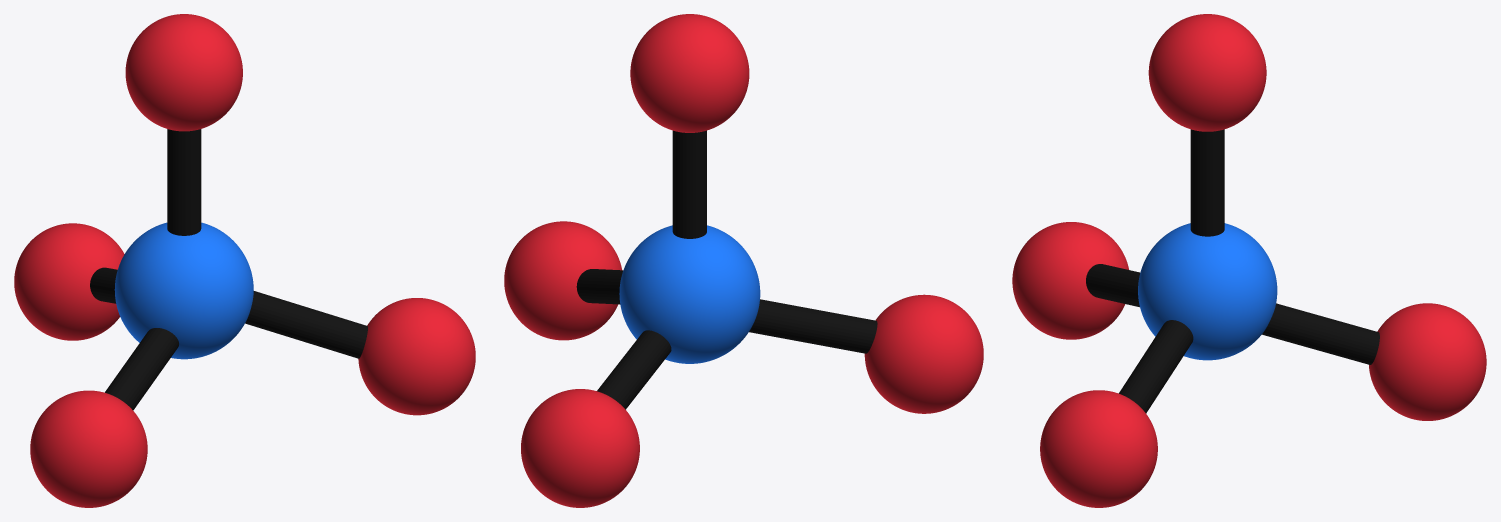
File: Tetrahedral.glb
The picture shows the model from 3 angles, left to right: view 1: azimuth 30°, elevation 25°; view 2: azimuth 150°, elevation 25°; view 3: azimuth 270°, elevation 25°; orthographic projection.
Visible parts, largest first — view 1: Sphere, Sphere.001, Sphere.004, Sphere.002, Sphere.003, Cylinder.001, Cylinder, Cylinder.003, Cylinder.002; view 2: Sphere, Sphere.001, Sphere.003, Sphere.004, Sphere.002, Cylinder.003, Cylinder, Cylinder.002, Cylinder.001; view 3: Sphere, Sphere.001, Sphere.002, Sphere.003, Sphere.004, Cylinder.002, Cylinder, Cylinder.001, Cylinder.003.
Part boxes in pixels (x1,y1,x2,y2): Sphere: (114, 222, 253, 359); Sphere.001: (125, 14, 242, 131); Sphere.004: (30, 390, 147, 507); Sphere.002: (358, 298, 475, 415); Sphere.003: (14, 223, 124, 340); Cylinder.001: (245, 291, 367, 358); Cylinder: (167, 129, 201, 235); Cylinder.003: (105, 328, 178, 410); Cylinder.002: (90, 267, 117, 303); Sphere: (619, 225, 760, 363); Sphere.001: (630, 14, 749, 132); Sphere.003: (521, 389, 639, 507); Sphere.004: (864, 294, 983, 413); Sphere.002: (504, 221, 621, 340); Cylinder.003: (749, 299, 877, 353); Cylinder: (672, 130, 706, 238); Cylinder.002: (597, 330, 671, 409); Cylinder.001: (576, 269, 623, 304); Sphere: (1138, 223, 1277, 360); Sphere.001: (1148, 14, 1266, 131); Sphere.002: (1040, 390, 1157, 507); Sphere.003: (1369, 303, 1486, 420); Sphere.004: (1012, 222, 1128, 339); Cylinder.002: (1262, 303, 1379, 364); Cylinder: (1190, 129, 1224, 236); Cylinder.001: (1119, 320, 1193, 413); Cylinder.003: (1086, 264, 1139, 307).
Bounding box in the file's own units: 2.29 × 1.95 × 2.11.
